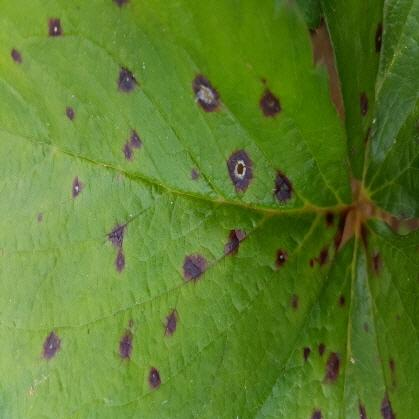Leaf Spot: (0, 0, 353, 418), (255, 217, 418, 418), (321, 0, 418, 221)
